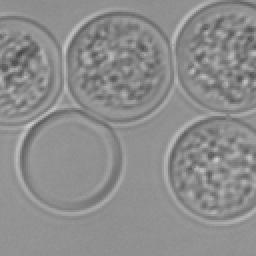picoshell: (64, 8, 172, 126), (14, 108, 124, 214), (162, 114, 254, 224), (172, 0, 254, 116), (0, 14, 60, 126)
